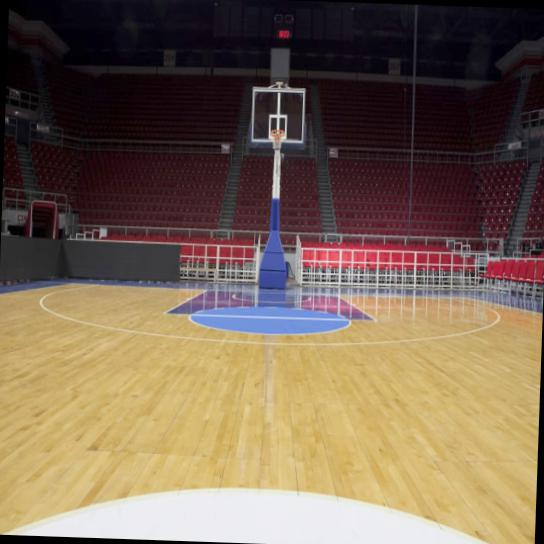basketball-hoop: (270, 130, 285, 150)
